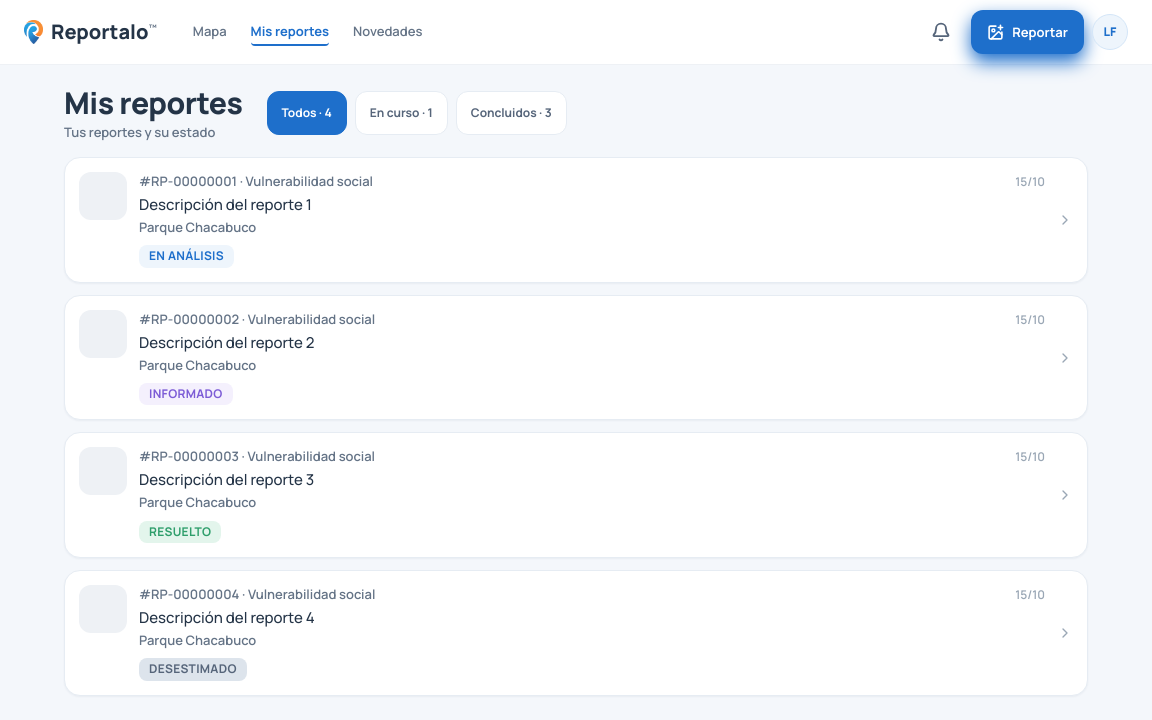
Test: REP-3847 · «Concluidos» en lugar de «Resueltos» › UT-3847-01 (CA-Q1-1): los filtros son Todos, En curso y Concluidos, y Concluidos agrupa INFORMADO, RESUELTO y DESESTIMADO
Expected: the button "Todos · 4" is shown, [266,91,347,135]
Expected: the button "En curso · 1" is shown, [355,91,448,135]
Click the button "Concluidos · 3" at (511, 113), box [456,91,567,135]
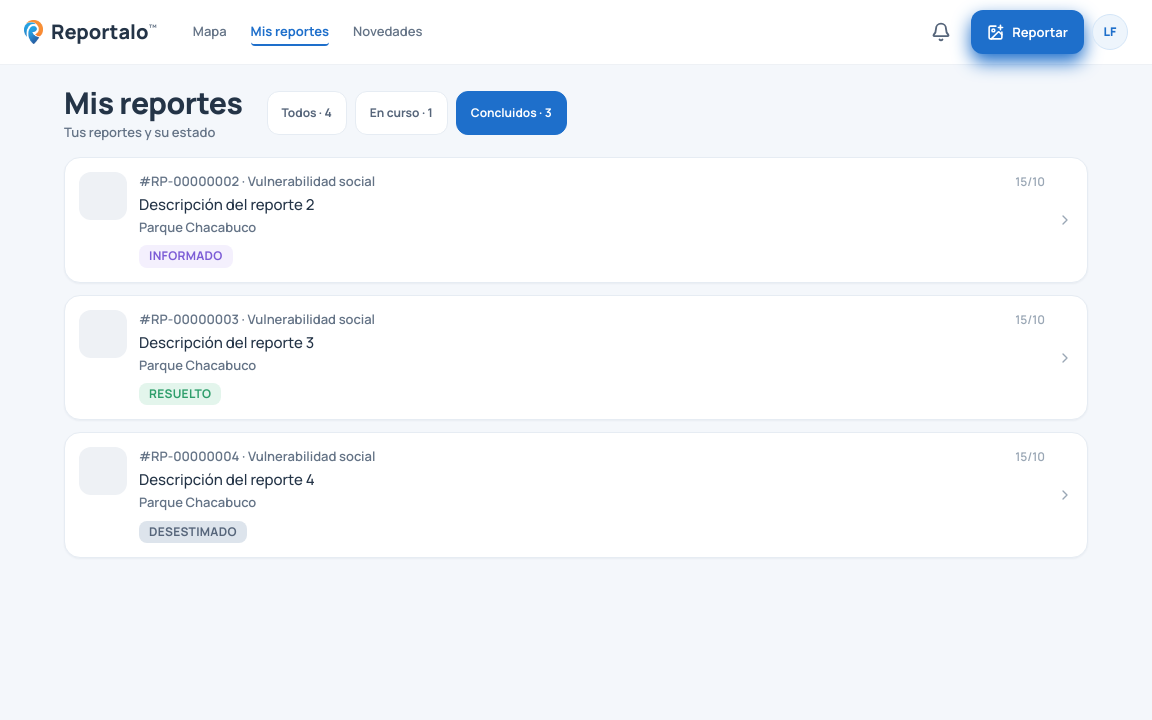
Expected: the number of buttons with test id "report-row" is 3, [64,157,1088,283]; [64,295,1088,420]; [64,432,1088,558]
